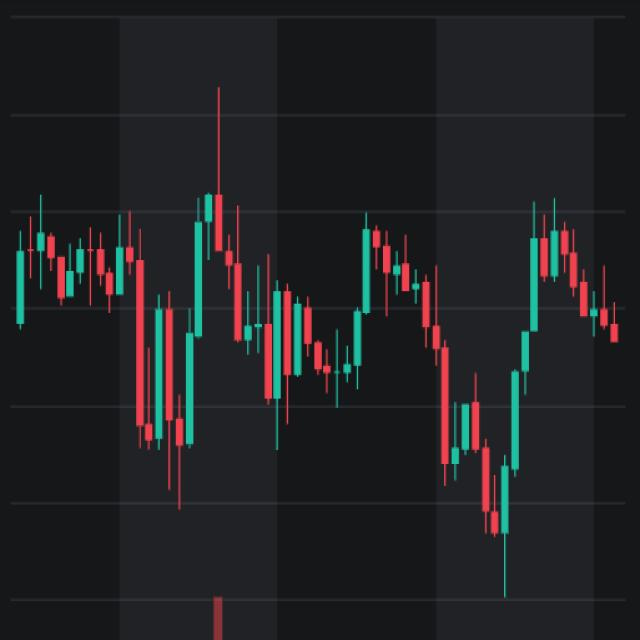Resistance-Emerging: (175, 177, 625, 455)
